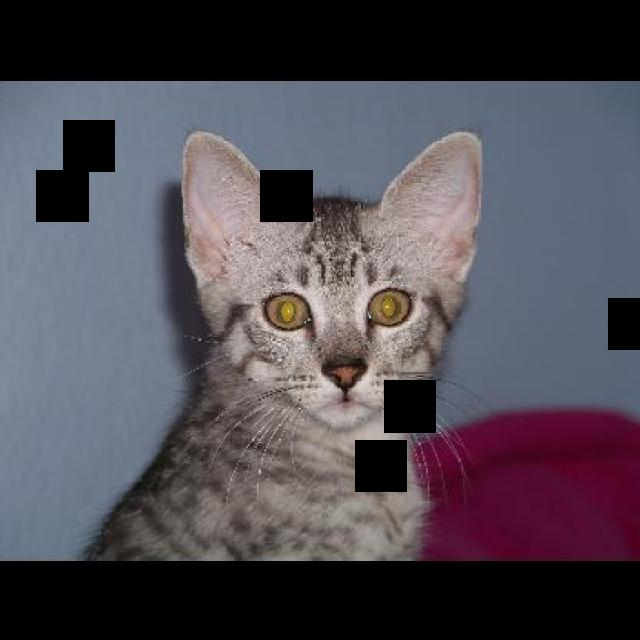unauthorized: (77, 126, 485, 560)
